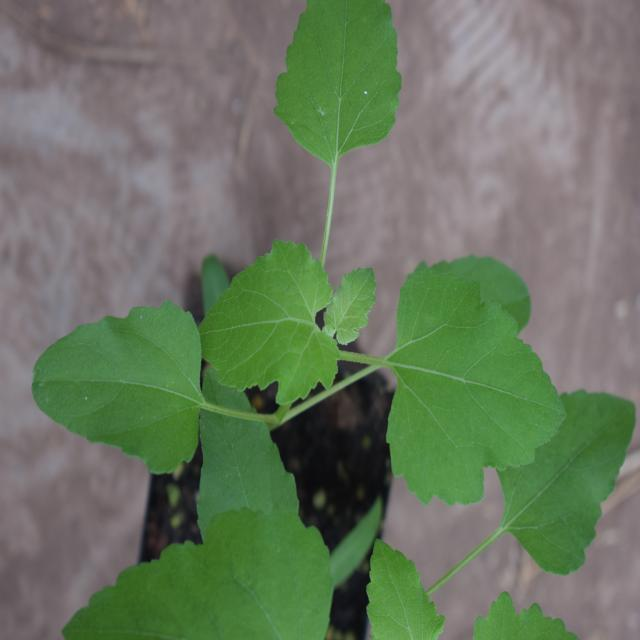cocklebur: (68, 39, 571, 524)
